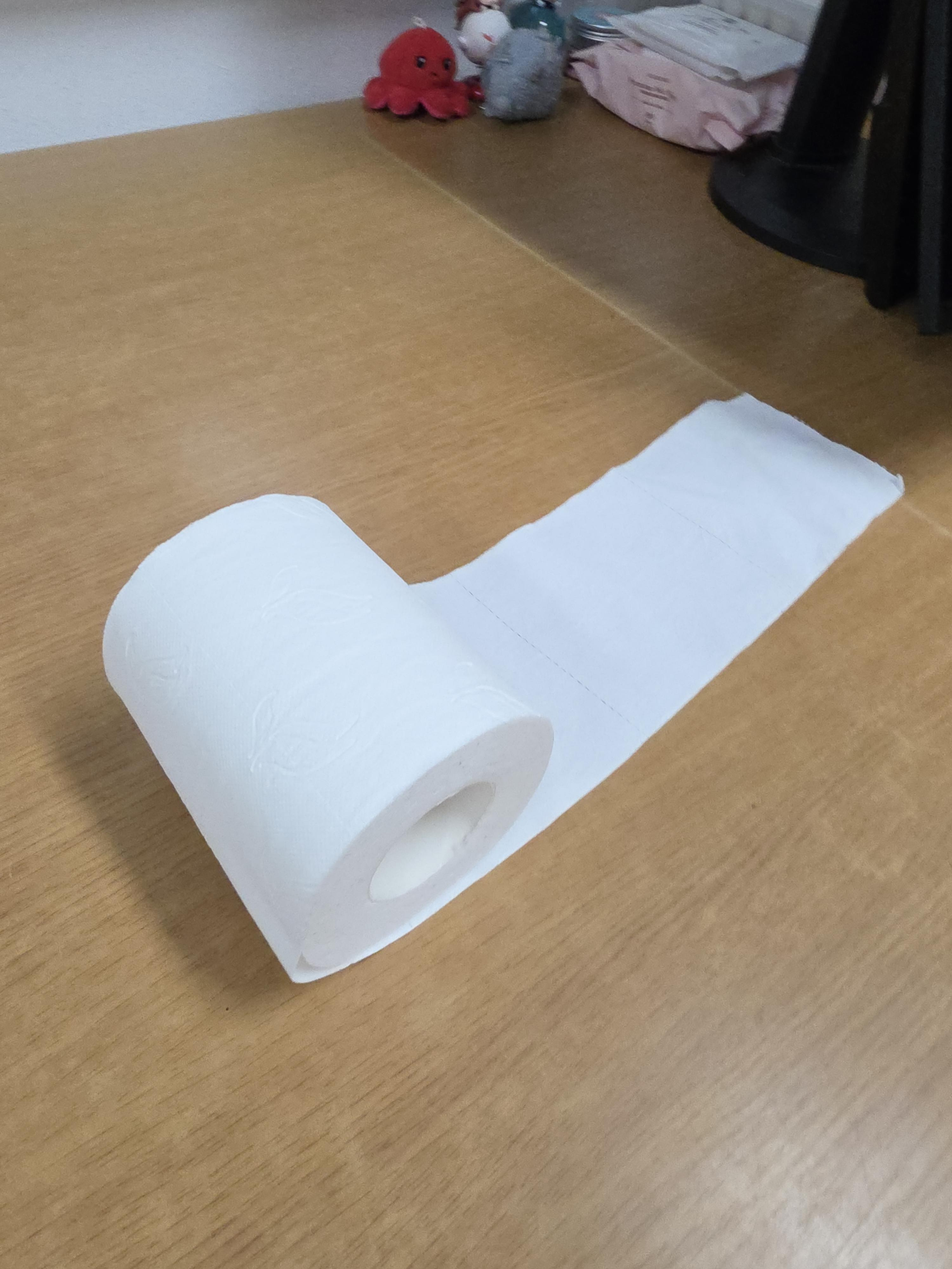tissue: (100, 392, 905, 984)
